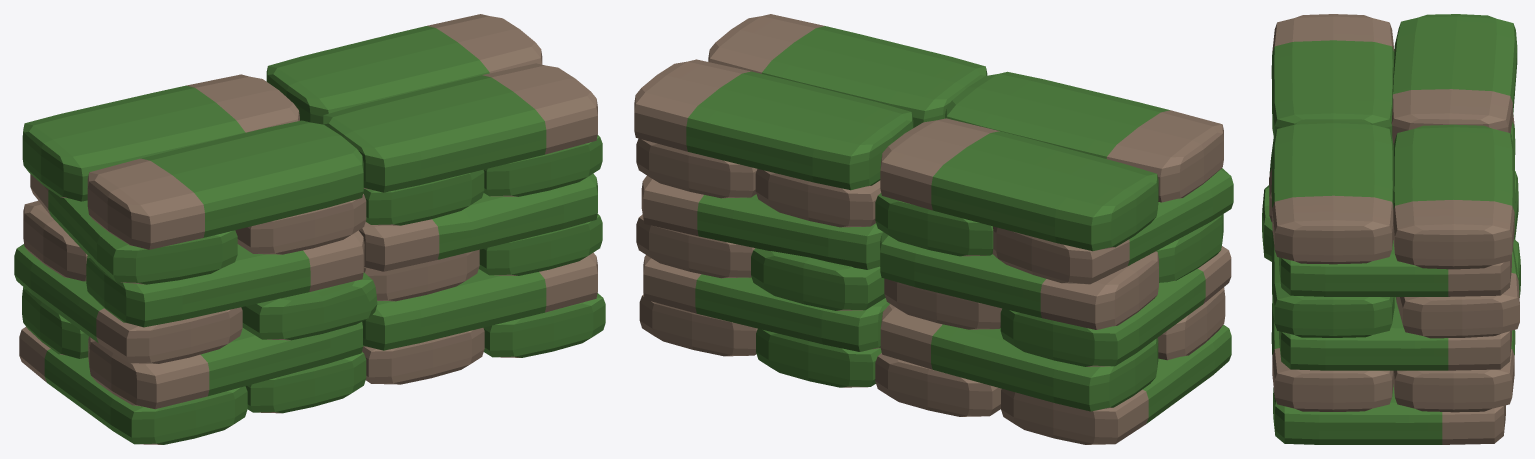
Rendered from SM_Props_CementC1_01.glb.
3 renders of one model, left to right at view 1: azimuth 30°, elevation 25°; view 2: azimuth 150°, elevation 25°; view 3: azimuth 270°, elevation 25°, orthographic. The views are drawn at different scales.
Parts seen in each view (by area): view 1: SM_Props_CementC1_01; view 2: SM_Props_CementC1_01; view 3: SM_Props_CementC1_01.
Boxes of the visible parts, bbox=[...] form: SM_Props_CementC1_01: bbox=[14, 14, 605, 444]; SM_Props_CementC1_01: bbox=[634, 14, 1233, 444]; SM_Props_CementC1_01: bbox=[1262, 14, 1520, 444].
Bounding box in the file's own units: 1.46 × 0.6851 × 0.7145.
1 material, 1 textured.
